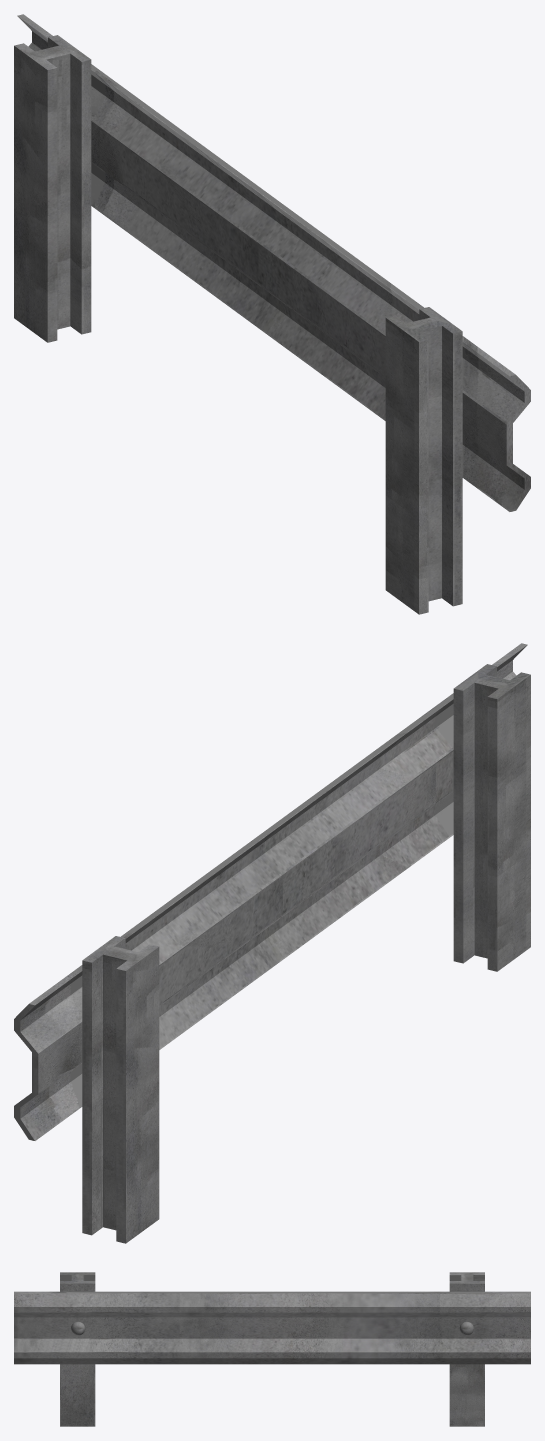
Rendered from kullanma.fbx.
3 renders of one model, top to bottom at view 1: azimuth 30°, elevation 25°; view 2: azimuth 150°, elevation 25°; view 3: azimuth 270°, elevation 25°, orthographic. The views are drawn at different scales.
Parts seen in each view (by area): view 1: Cube.001; view 2: Cube.001; view 3: Cube.001.
Boxes of the visible parts, bbox=[...] form: Cube.001: bbox=[14, 14, 530, 614]; Cube.001: bbox=[14, 643, 530, 1243]; Cube.001: bbox=[14, 1272, 530, 1426].
Bounding box in the file's own units: 35.06 × 134 × 440.
1 material, 1 textured.
